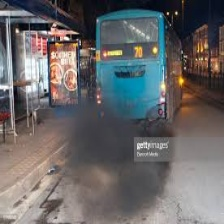smoke: (72, 107, 175, 207)
